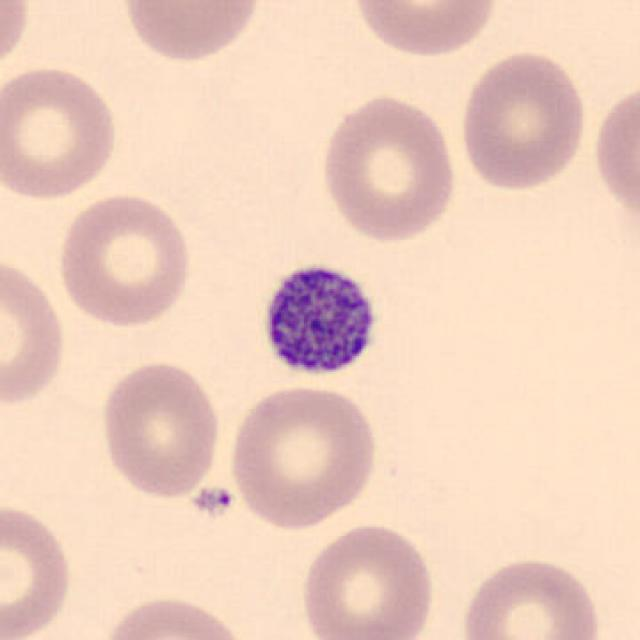Platelets: (250, 252, 386, 384)
RBC: (224, 381, 382, 532), (315, 90, 462, 243), (455, 46, 590, 194), (54, 188, 195, 329), (96, 358, 224, 502), (0, 61, 123, 202), (297, 518, 439, 640), (457, 552, 606, 640), (0, 252, 69, 412), (0, 499, 76, 640), (117, 0, 265, 65), (347, 0, 503, 60), (95, 590, 252, 640), (590, 74, 638, 235), (0, 0, 34, 81)
